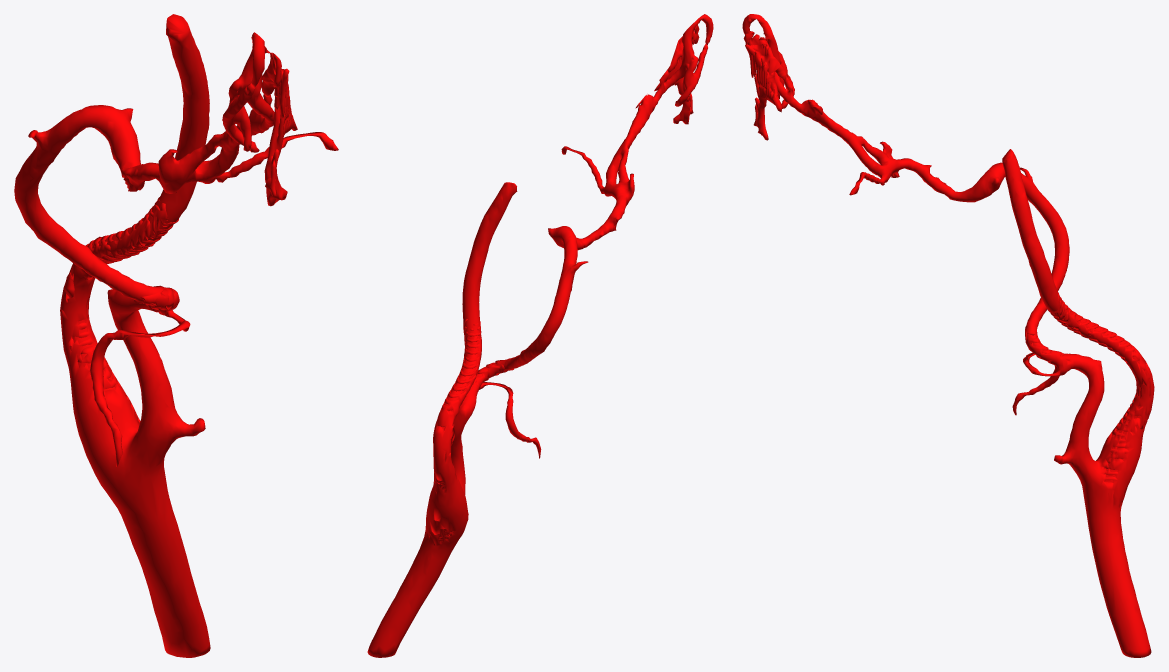
The picture shows the model from 3 angles, left to right: view 1: azimuth 30°, elevation 25°; view 2: azimuth 150°, elevation 25°; view 3: azimuth 270°, elevation 25°; orthographic projection. The views are drawn at different scales.
Parts seen in each view (by area): view 1: Polygonal_Model_1_Triangles_0; view 2: Polygonal_Model_1_Triangles_0; view 3: Polygonal_Model_1_Triangles_0.
Boxes of the visible parts, bbox=[...] form: Polygonal_Model_1_Triangles_0: bbox=[14, 14, 338, 657]; Polygonal_Model_1_Triangles_0: bbox=[367, 14, 713, 657]; Polygonal_Model_1_Triangles_0: bbox=[742, 14, 1154, 657].
Bounding box in the file's own units: 1.72 × 5.43 × 3.58.
